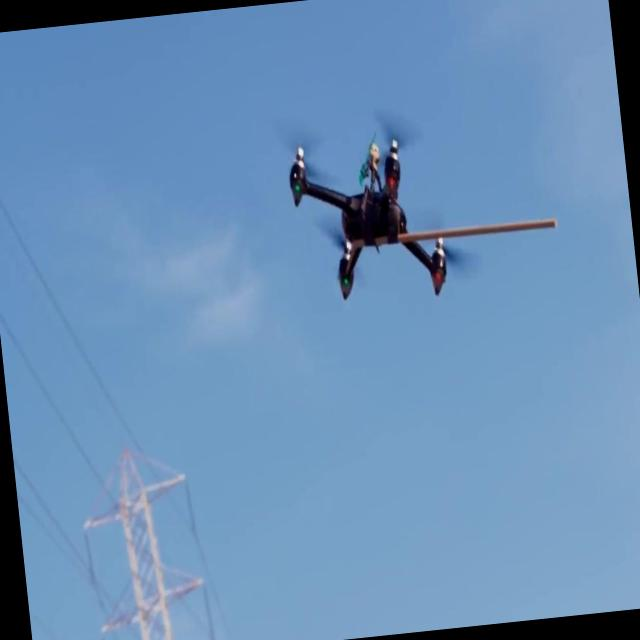drone: (282, 120, 455, 312)
